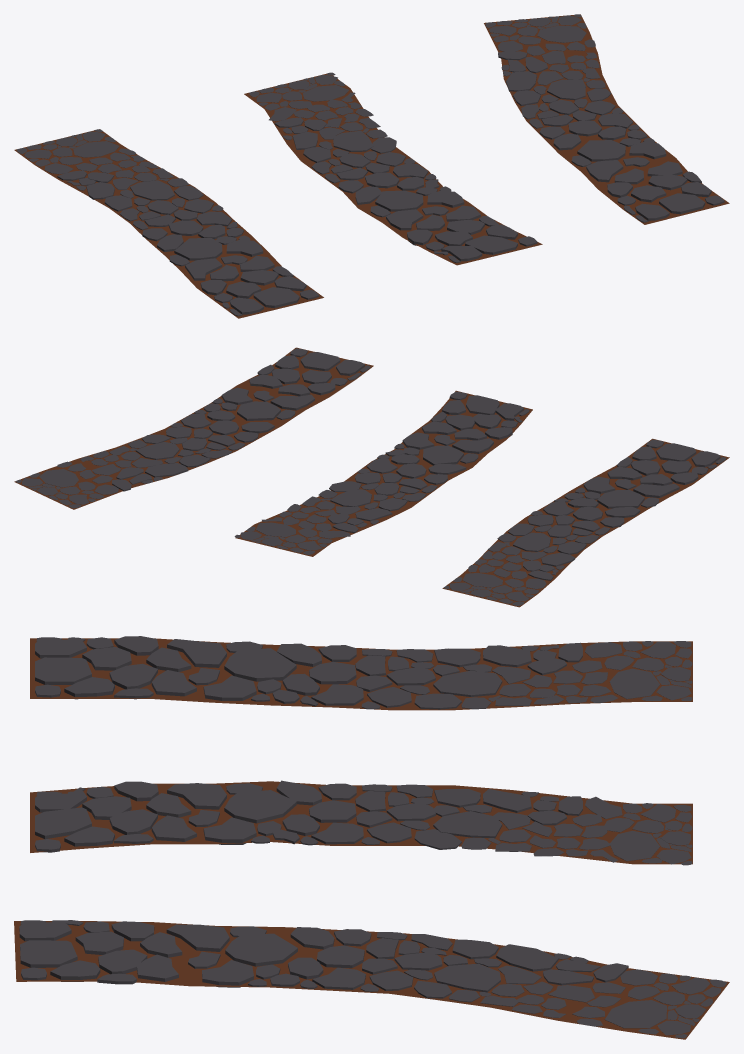
File: stoene_path (1).fbx
3 views of the same model, one above another, from view 1: azimuth 30°, elevation 25°; view 2: azimuth 150°, elevation 25°; view 3: azimuth 270°, elevation 25° (orthographic). The views are drawn at different scales.
Parts seen in each view (by area): view 1: Path 3, Path 2, Path 1; view 2: Path 3, Path 2, Path 1; view 3: Path 3, Path 2, Path 1.
Boxes of the visible parts, bbox=[...] form: Path 3: bbox=[484, 14, 729, 224]; Path 2: bbox=[244, 72, 542, 265]; Path 1: bbox=[14, 129, 323, 318]; Path 3: bbox=[14, 347, 373, 509]; Path 2: bbox=[234, 390, 532, 556]; Path 1: bbox=[442, 438, 729, 607]; Path 3: bbox=[14, 920, 729, 1039]; Path 2: bbox=[30, 780, 692, 865]; Path 1: bbox=[30, 636, 692, 710].
Bounding box in the file's own units: 331 × 2.15 × 249.
